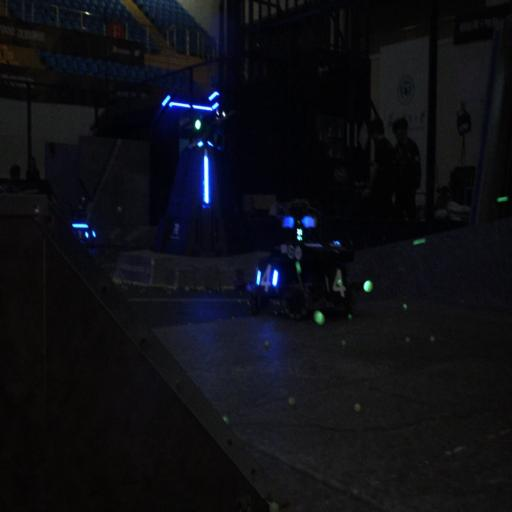target: (325, 261, 353, 312), (254, 254, 280, 300)
